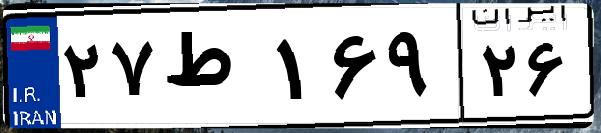1: (270, 28, 330, 110)
2: (57, 26, 110, 100), (475, 38, 525, 113)
6: (330, 28, 385, 110), (525, 38, 570, 115)
7: (110, 28, 158, 98)
9: (385, 28, 445, 110)
ط: (158, 20, 270, 120)
